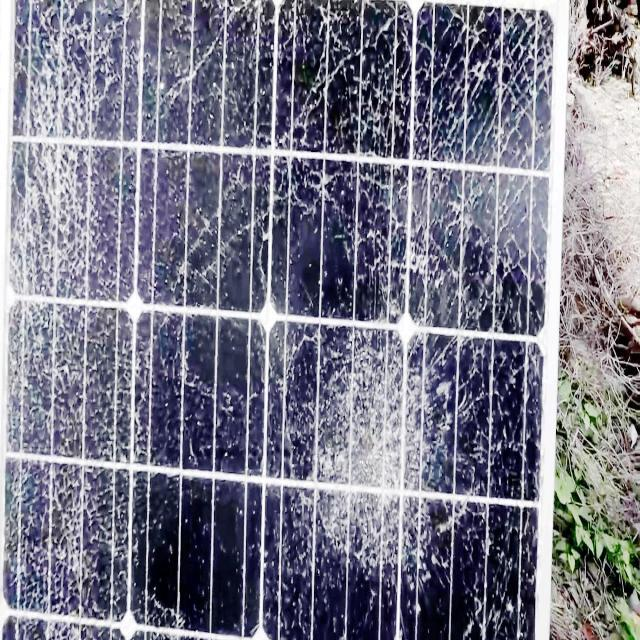faulty: (2, 2, 564, 640)
